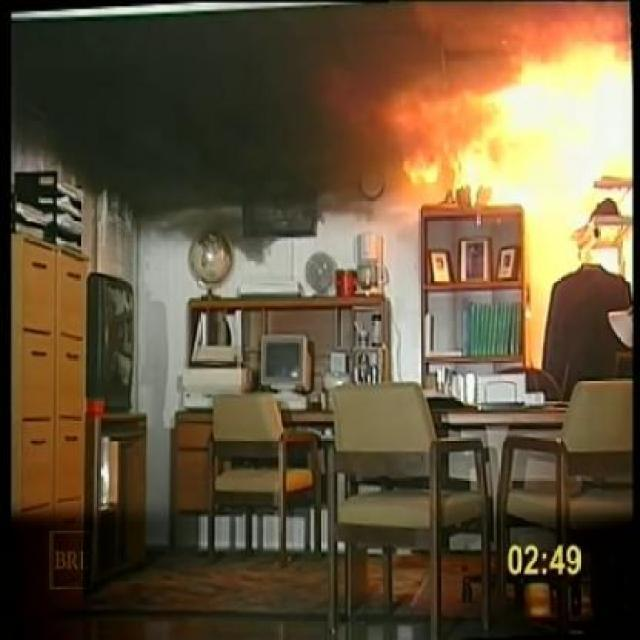fire: (415, 24, 640, 173)
